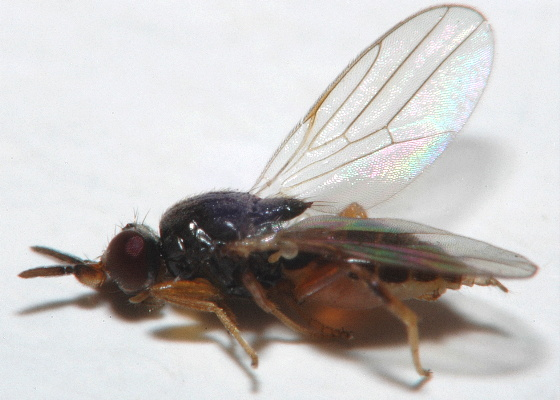Chloropidae: (15, 1, 536, 387)
